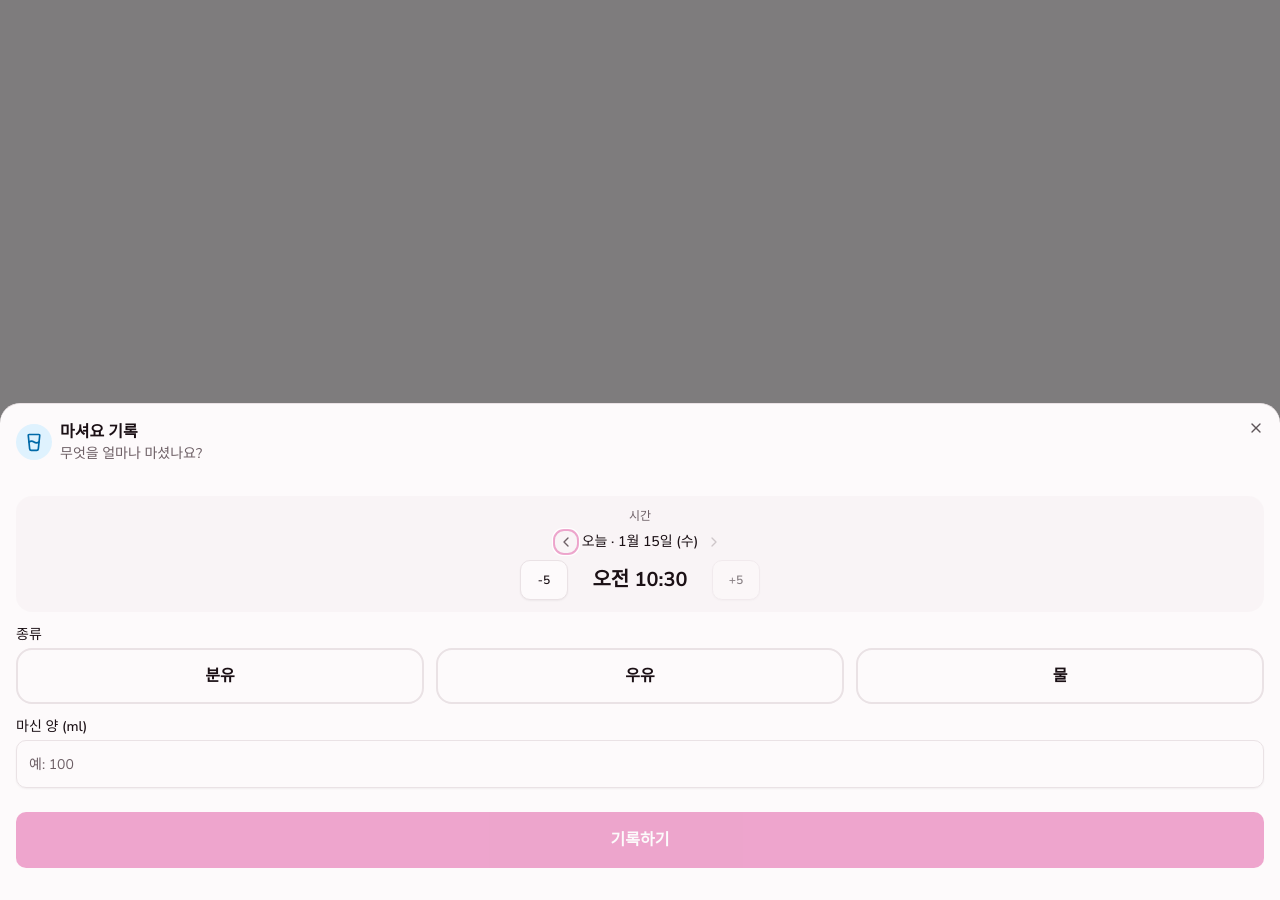
DrinkSheet › submit button is enabled after selecting drink type
Click the button "분유".
click(220, 676)  # box x1=16 y1=648 x2=424 y2=704
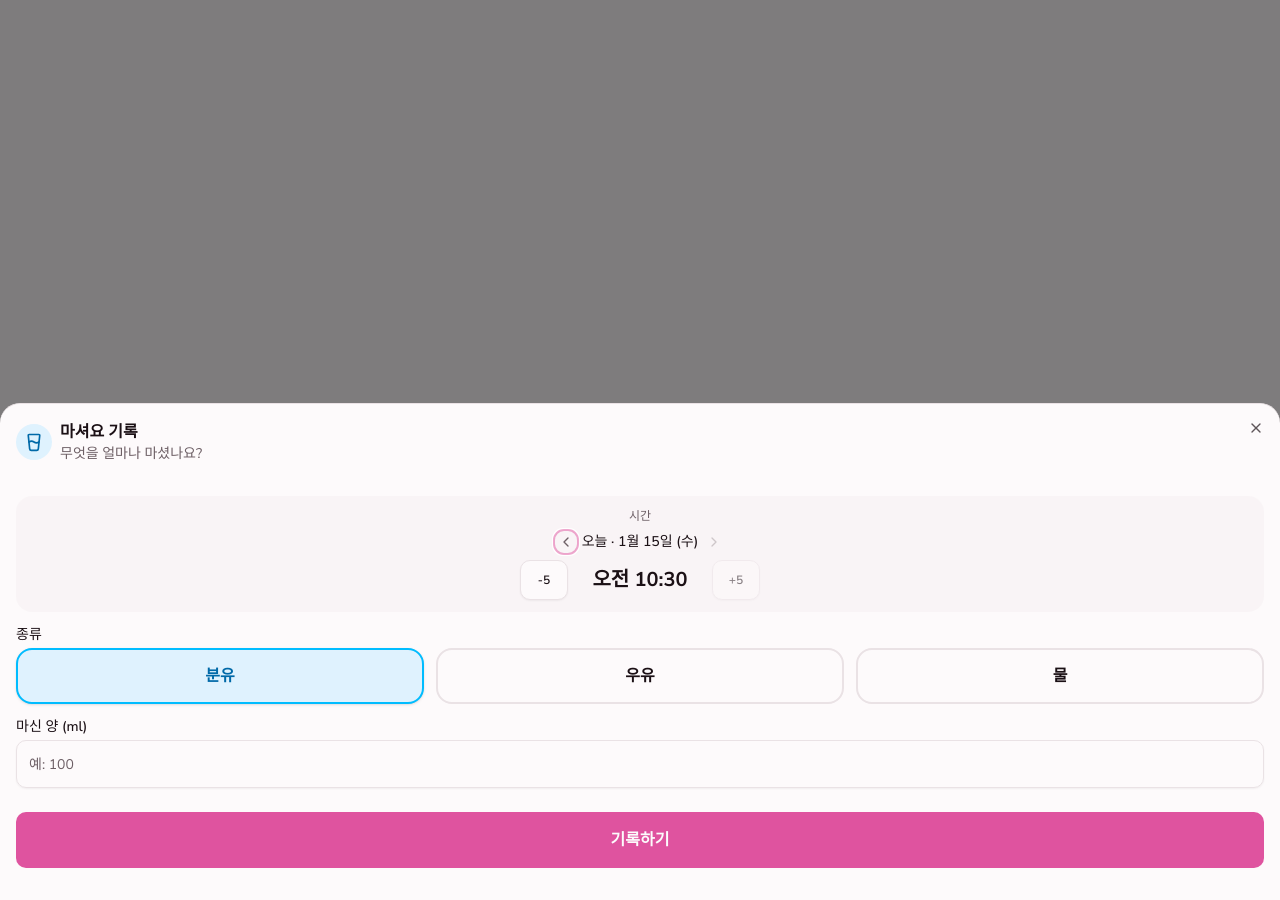
expect the button "기록하기" is enabled: met, box x1=16 y1=812 x2=1264 y2=868
